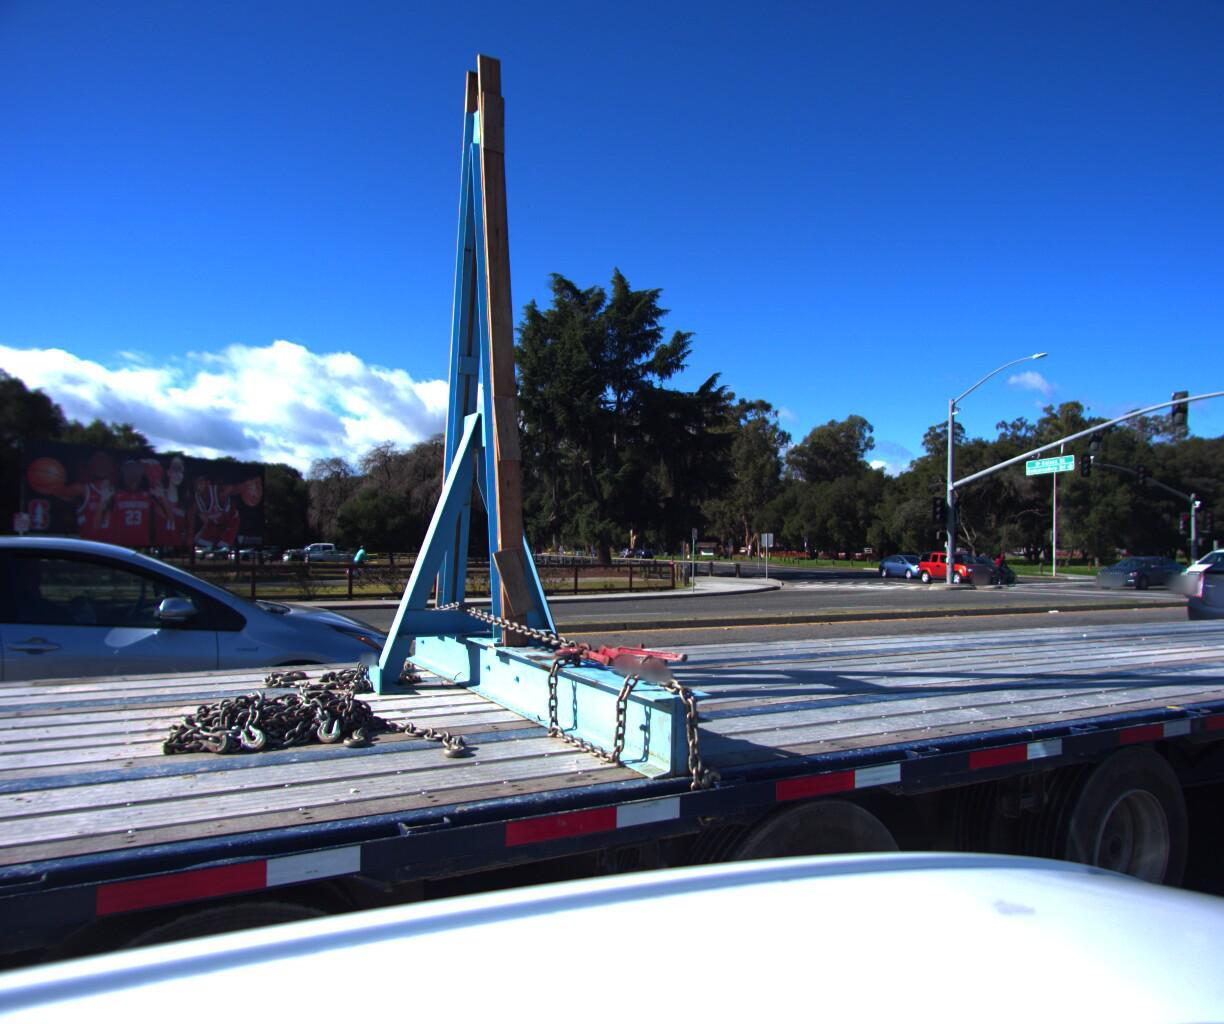bicycle: (340, 542, 393, 579)
car: (0, 529, 443, 865), (1161, 544, 1224, 652), (1084, 550, 1208, 592), (903, 544, 1000, 580), (1165, 540, 1224, 596), (870, 548, 942, 574)
